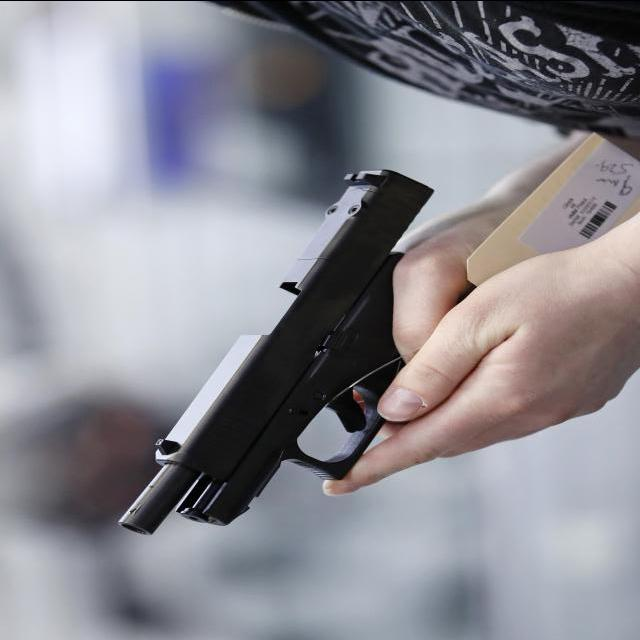pistol: (111, 160, 484, 540)
